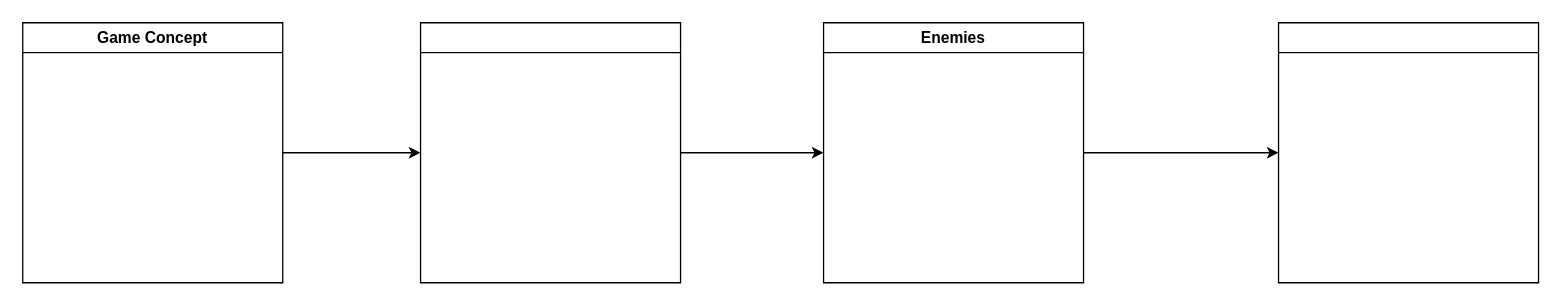
Some shapes in this 1561 by 306 pixel diagram are drawn without their labels. Each missing label, with the centre of its shape:
"Final Boss" goes at point 1408,152.
"NPCs" goes at point 550,152.
